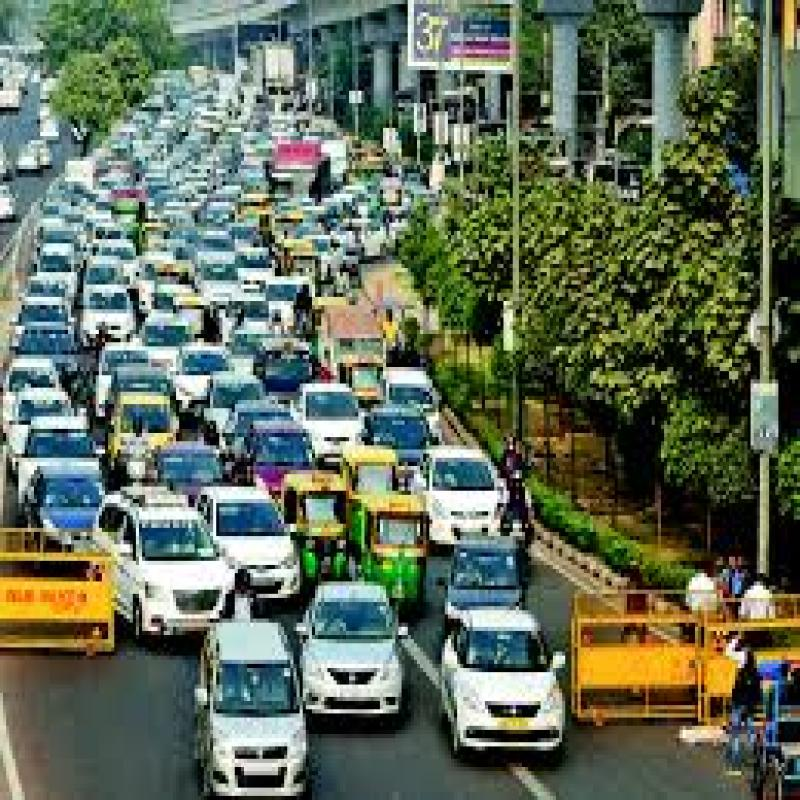auto: (360, 483, 439, 624), (271, 462, 353, 594), (332, 439, 414, 526)
car: (78, 467, 247, 662), (184, 599, 334, 800), (435, 586, 584, 787), (292, 576, 414, 746), (418, 439, 522, 569), (192, 473, 300, 598), (26, 462, 115, 570), (284, 369, 368, 468)
